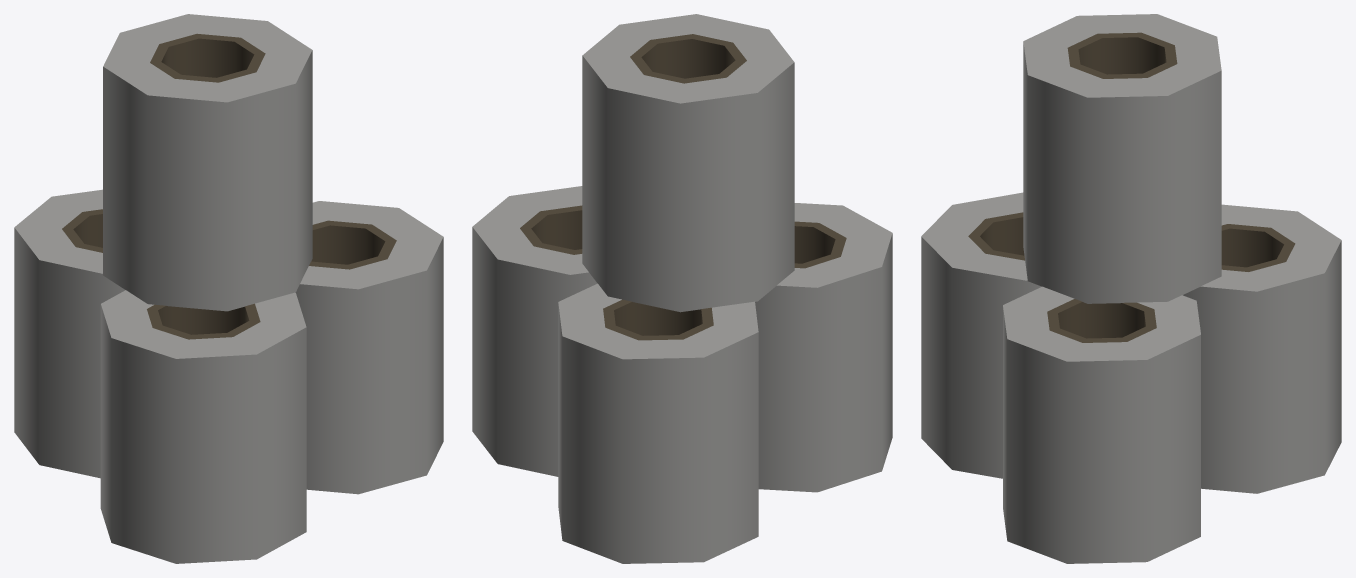
File: Bathroom_ToiletPaperPile.glb
3 renders of one model, left to right at view 1: azimuth 30°, elevation 25°; view 2: azimuth 150°, elevation 25°; view 3: azimuth 270°, elevation 25°, orthographic.
Parts seen in each view (by area): view 1: Bathroom_ToiletPaperPile_Cylinder.010; view 2: Bathroom_ToiletPaperPile_Cylinder.010; view 3: Bathroom_ToiletPaperPile_Cylinder.010.
Part boxes in pixels (<box>): Bathroom_ToiletPaperPile_Cylinder.010: <box>14,14,443,563</box>; Bathroom_ToiletPaperPile_Cylinder.010: <box>472,14,892,563</box>; Bathroom_ToiletPaperPile_Cylinder.010: <box>921,14,1341,563</box>.
Size of the model in its own units: 0.3345 by 0.3747 by 0.3498.
